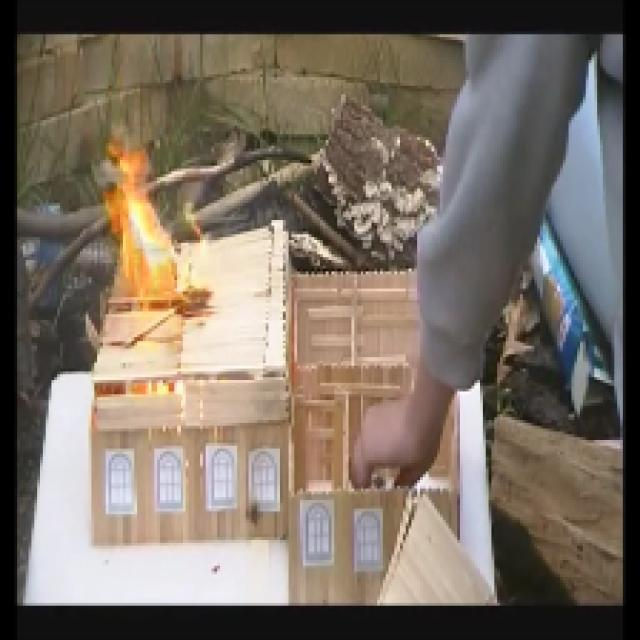Fire: (92, 136, 186, 295)
